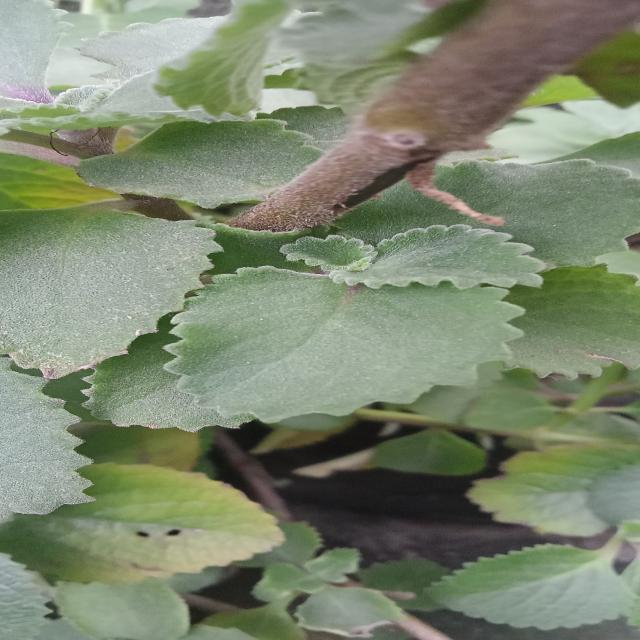Oregano: (97, 208, 589, 463)
